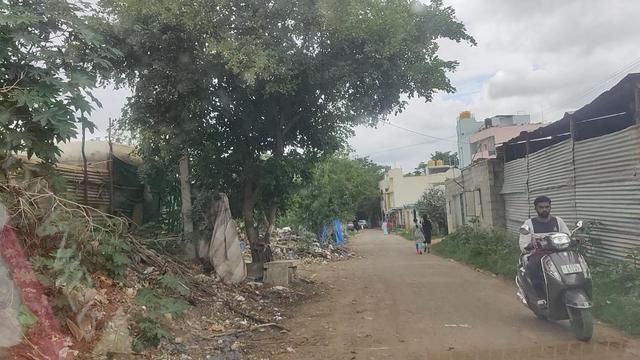LMV: (524, 203, 609, 345)
UnsurfacedRoad: (305, 297, 513, 357)
